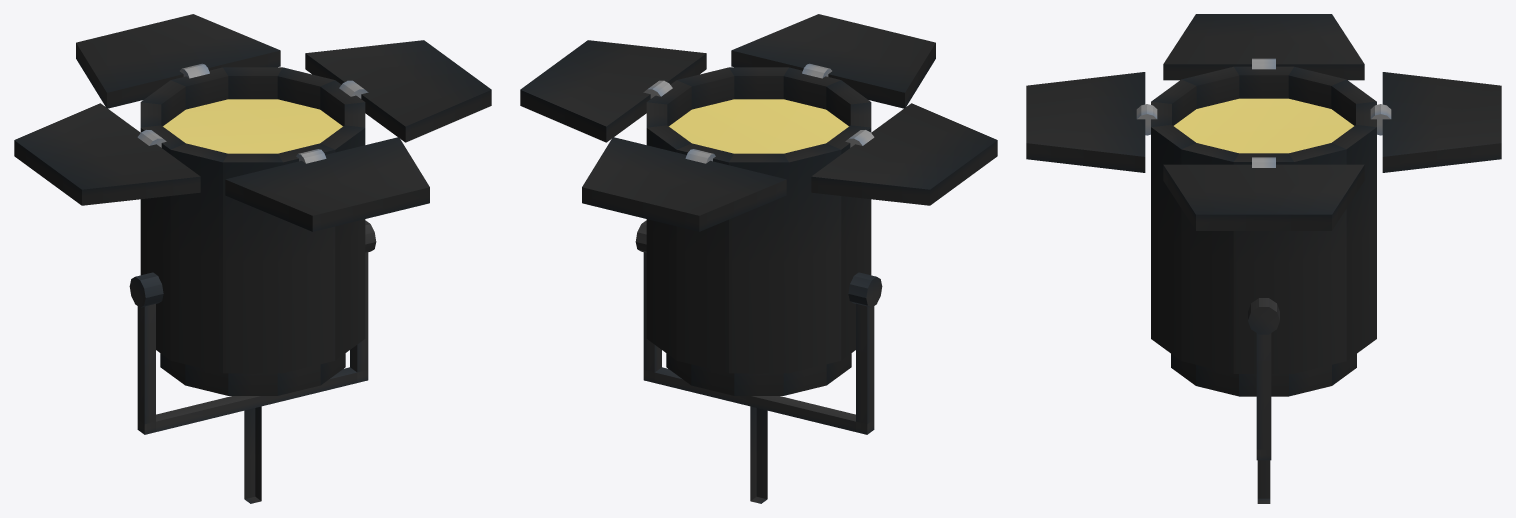
The model's file is TheaterSpotlight.glb.
3 renders of one model, left to right at view 1: azimuth 30°, elevation 25°; view 2: azimuth 150°, elevation 25°; view 3: azimuth 270°, elevation 25°, orthographic.
Visible parts, largest first — view 1: Cilindro.001, Cubo, Cubo.001, Cubo.002, Cubo.003, Cilindro, Cilindro.003, Cilindro.002; view 2: Cilindro.001, Cubo, Cubo.001, Cubo.002, Cubo.003, Cilindro, Cilindro.003, Cilindro.002; view 3: Cilindro.001, Cubo, Cubo.001, Cubo.002, Cilindro, Cilindro.002, Cubo.003, Cilindro.003.
Boxes of the visible parts, x1,y1,x2,y2 form: Cilindro.001: (140,67,365,395); Cubo: (14,40,491,205); Cubo.001: (76,14,429,231); Cubo.002: (137,252,368,434); Cubo.003: (244,406,261,503); Cilindro: (129,220,376,307); Cilindro.003: (137,80,368,147); Cilindro.002: (180,63,326,163); Cilindro.001: (646,67,871,395); Cubo: (520,40,997,205); Cubo.001: (582,14,935,231); Cubo.002: (643,252,874,434); Cubo.003: (750,406,767,503); Cilindro: (635,220,882,307); Cilindro.003: (643,80,874,147); Cilindro.002: (685,63,831,163); Cilindro.001: (1151,66,1376,396); Cubo: (1163,14,1364,230); Cubo.001: (1026,72,1501,172); Cubo.002: (1256,333,1271,460); Cilindro: (1248,298,1279,334); Cilindro.002: (1136,104,1391,135); Cubo.003: (1257,460,1270,503); Cilindro.003: (1252,58,1275,167).
Bounding box in the file's own units: 4.07 × 3.7 × 4.07.
Materials: 1 (1 with a texture image).
